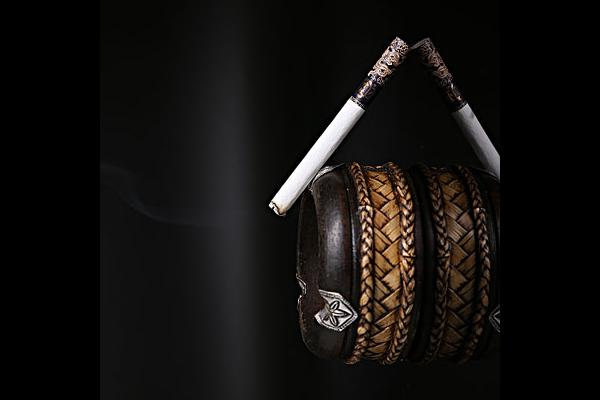Cigarette: (270, 38, 409, 214), (423, 40, 500, 173)
